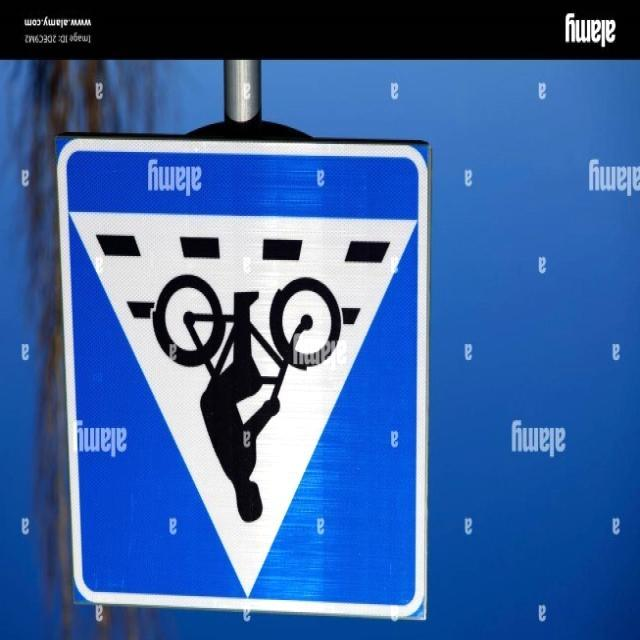Traffic sign: (46, 125, 436, 627)
